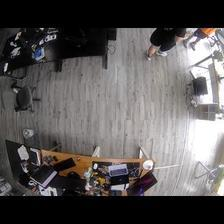normal: (146, 28, 191, 60)
